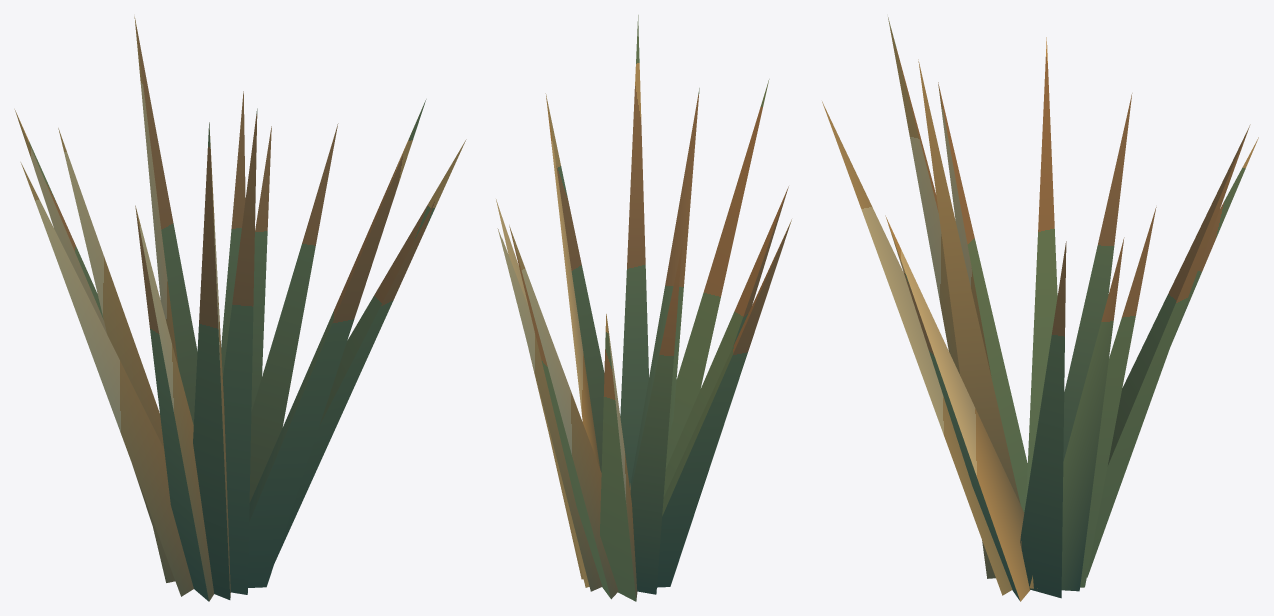
File: wland.grass.glb
3 views of the same model, side by side, from view 1: azimuth 30°, elevation 25°; view 2: azimuth 150°, elevation 25°; view 3: azimuth 270°, elevation 25° (orthographic). The views are drawn at different scales.
Visible parts, largest first — view 1: kit_blades; view 2: kit_blades; view 3: kit_blades.
Boxes of the visible parts, <box> form: kit_blades: <box>14,16,466,601</box>; kit_blades: <box>496,15,791,601</box>; kit_blades: <box>822,17,1258,601</box>.
Bounding box in the file's own units: 0.3458 × 0.4936 × 0.3696.
1 material, 1 textured.
